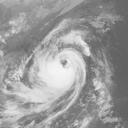cyclone: (22, 47, 87, 105)
